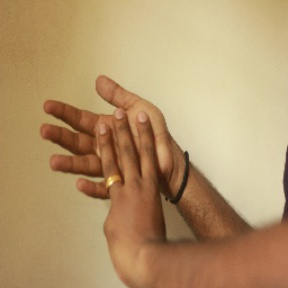M: (37, 68, 183, 211)
